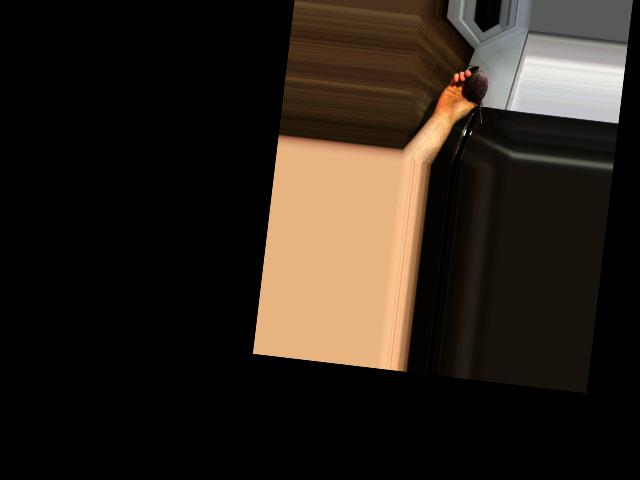beet: (460, 64, 490, 123)
